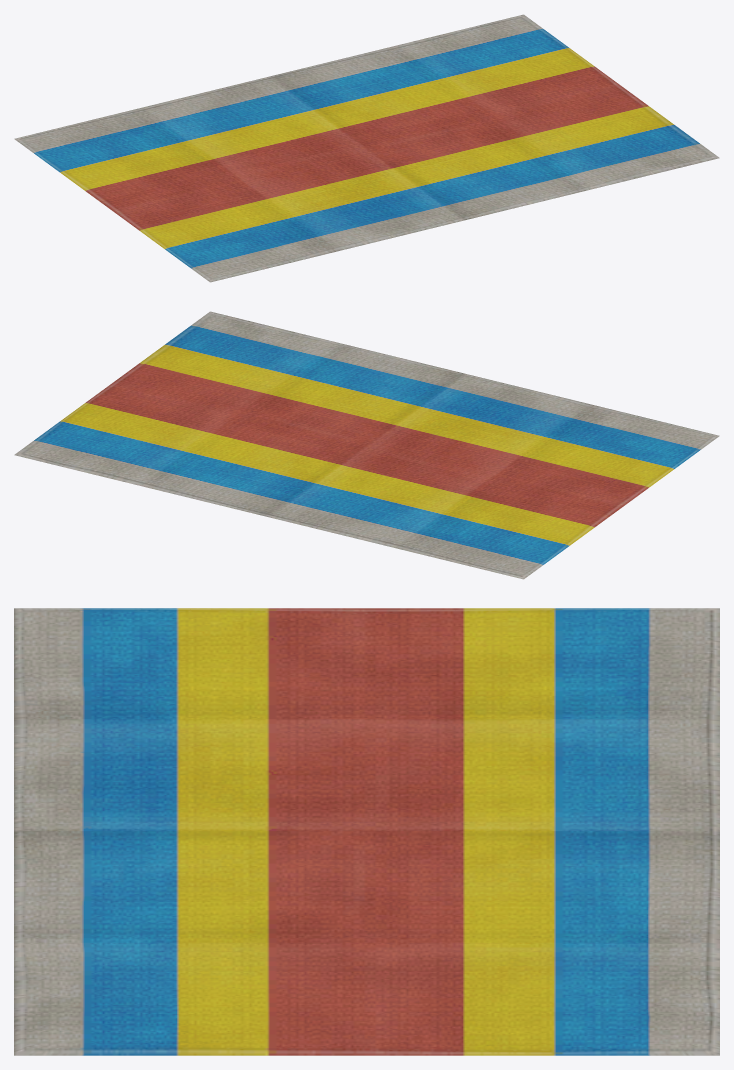
File: RugRectVinylM00.glb
3 views of the same model, one above another, from view 1: azimuth 30°, elevation 25°; view 2: azimuth 150°, elevation 25°; view 3: azimuth 270°, elevation 25° (orthographic). The views are drawn at different scales.
Visible parts, largest first — view 1: Main__mMain; view 2: Main__mMain; view 3: Main__mMain.
Boxes of the visible parts, bbox=[...] form: Main__mMain: bbox=[14, 14, 719, 282]; Main__mMain: bbox=[14, 311, 719, 579]; Main__mMain: bbox=[14, 608, 719, 1055].
Bounding box in the file's own units: 30 × 0.03 × 20.
1 material, 1 textured.
